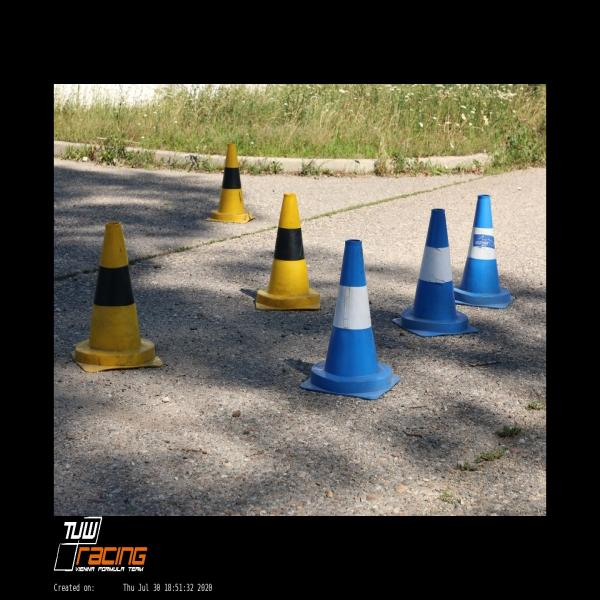blue_cone: (300, 240, 400, 400), (393, 209, 479, 337), (444, 195, 514, 309)
yellow_cone: (72, 220, 163, 373), (255, 193, 320, 310), (206, 144, 256, 224)
